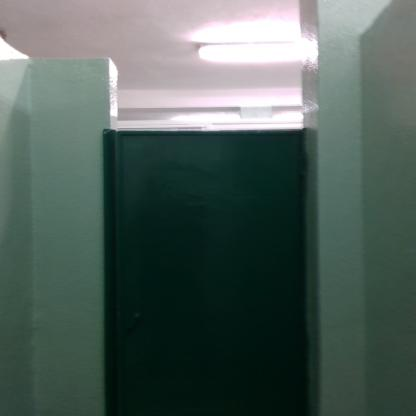closed: (93, 76, 334, 415)
